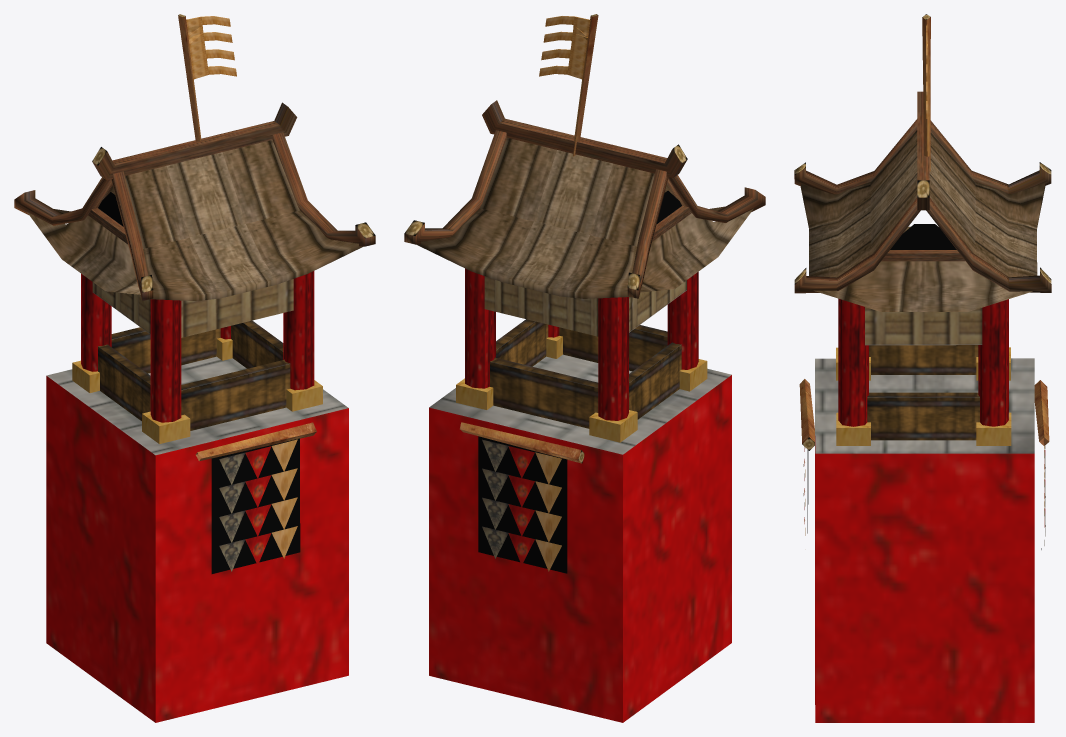
The model's file is wall_tower.dae.
3 renders of one model, left to right at view 1: azimuth 30°, elevation 25°; view 2: azimuth 150°, elevation 25°; view 3: azimuth 270°, elevation 25°, orthographic.
Parts seen in each view (by area): view 1: wall_tower; view 2: wall_tower; view 3: wall_tower.
Boxes of the visible parts, x1,y1,x2,y2 form: wall_tower: [14, 14, 375, 722]; wall_tower: [404, 14, 765, 722]; wall_tower: [794, 14, 1051, 722].
Size of the model in its own units: 8.75 by 8.25 by 23.11.
